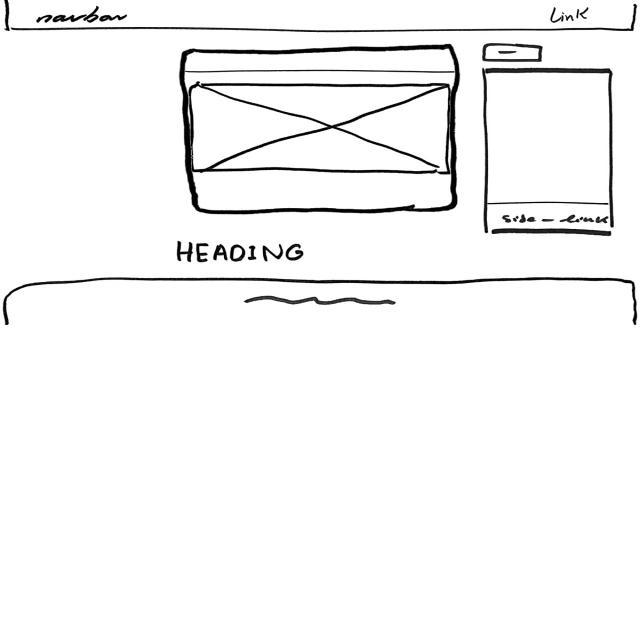container: (182, 46, 461, 215), (482, 66, 618, 240), (4, 1, 640, 34)
icon-button: (483, 42, 545, 65)
image: (189, 82, 454, 177)
label: (173, 241, 306, 265), (35, 7, 131, 26), (502, 213, 610, 226), (549, 6, 593, 25)
text: (243, 294, 399, 309)
